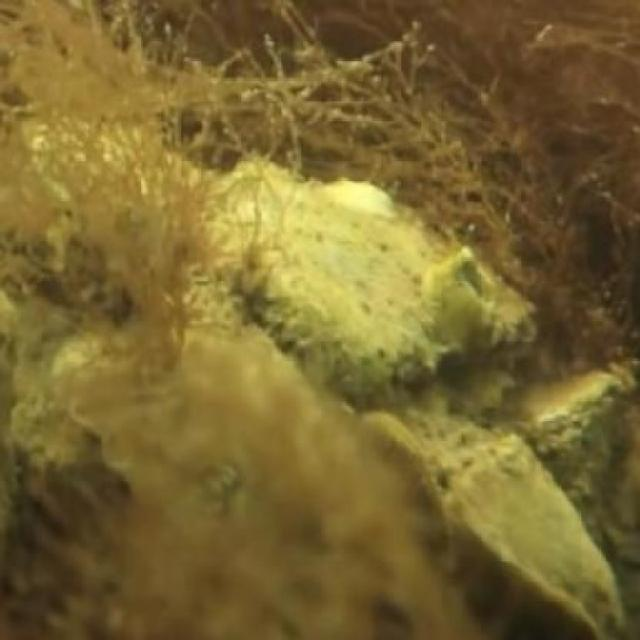Oyster- Indeterminate: (221, 182, 534, 401)
Oyster-Closed: (507, 372, 630, 449)
